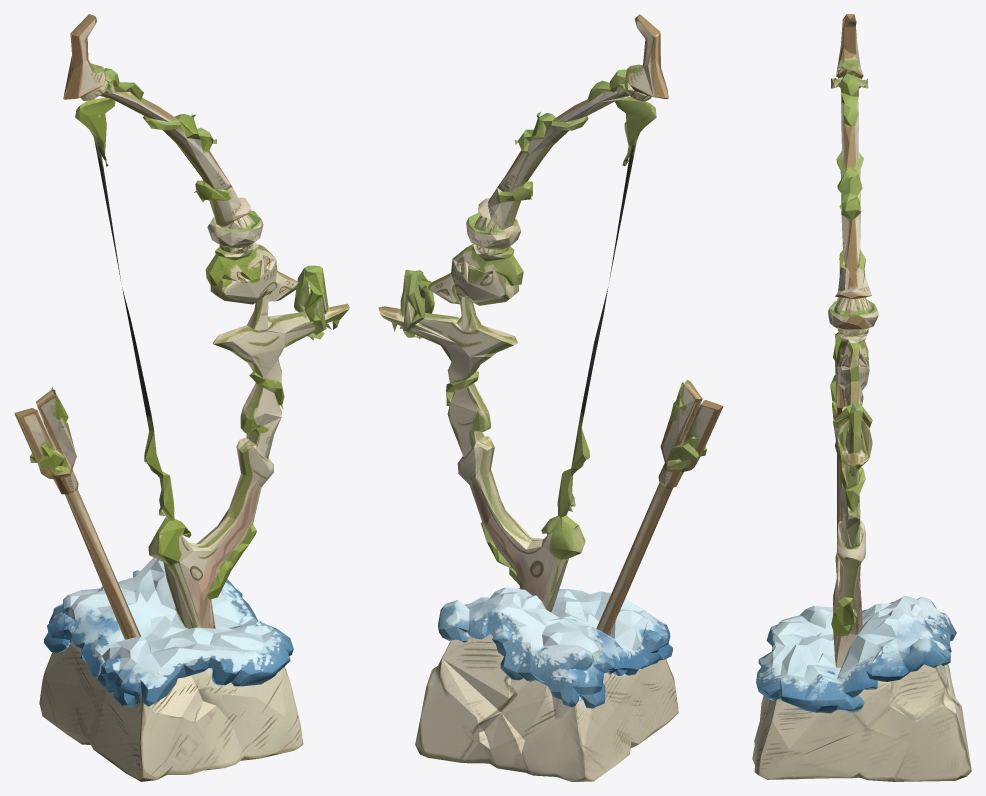
Rendered from arco.glb.
3 renders of one model, left to right at view 1: azimuth 30°, elevation 25°; view 2: azimuth 150°, elevation 25°; view 3: azimuth 270°, elevation 25°, orthographic. The views are drawn at different scales.
Visible parts, largest first — view 1: output_unwrapped.001; view 2: output_unwrapped.001; view 3: output_unwrapped.001.
Boxes of the visible parts, left/top/right/bottom form: output_unwrapped.001: left=14, top=14, right=349, bottom=781; output_unwrapped.001: left=378, top=14, right=723, bottom=781; output_unwrapped.001: left=752, top=14, right=971, bottom=781.
Bounding box in the file's own units: 0.9114 × 1.9 × 0.5465.
1 material, 1 textured.
